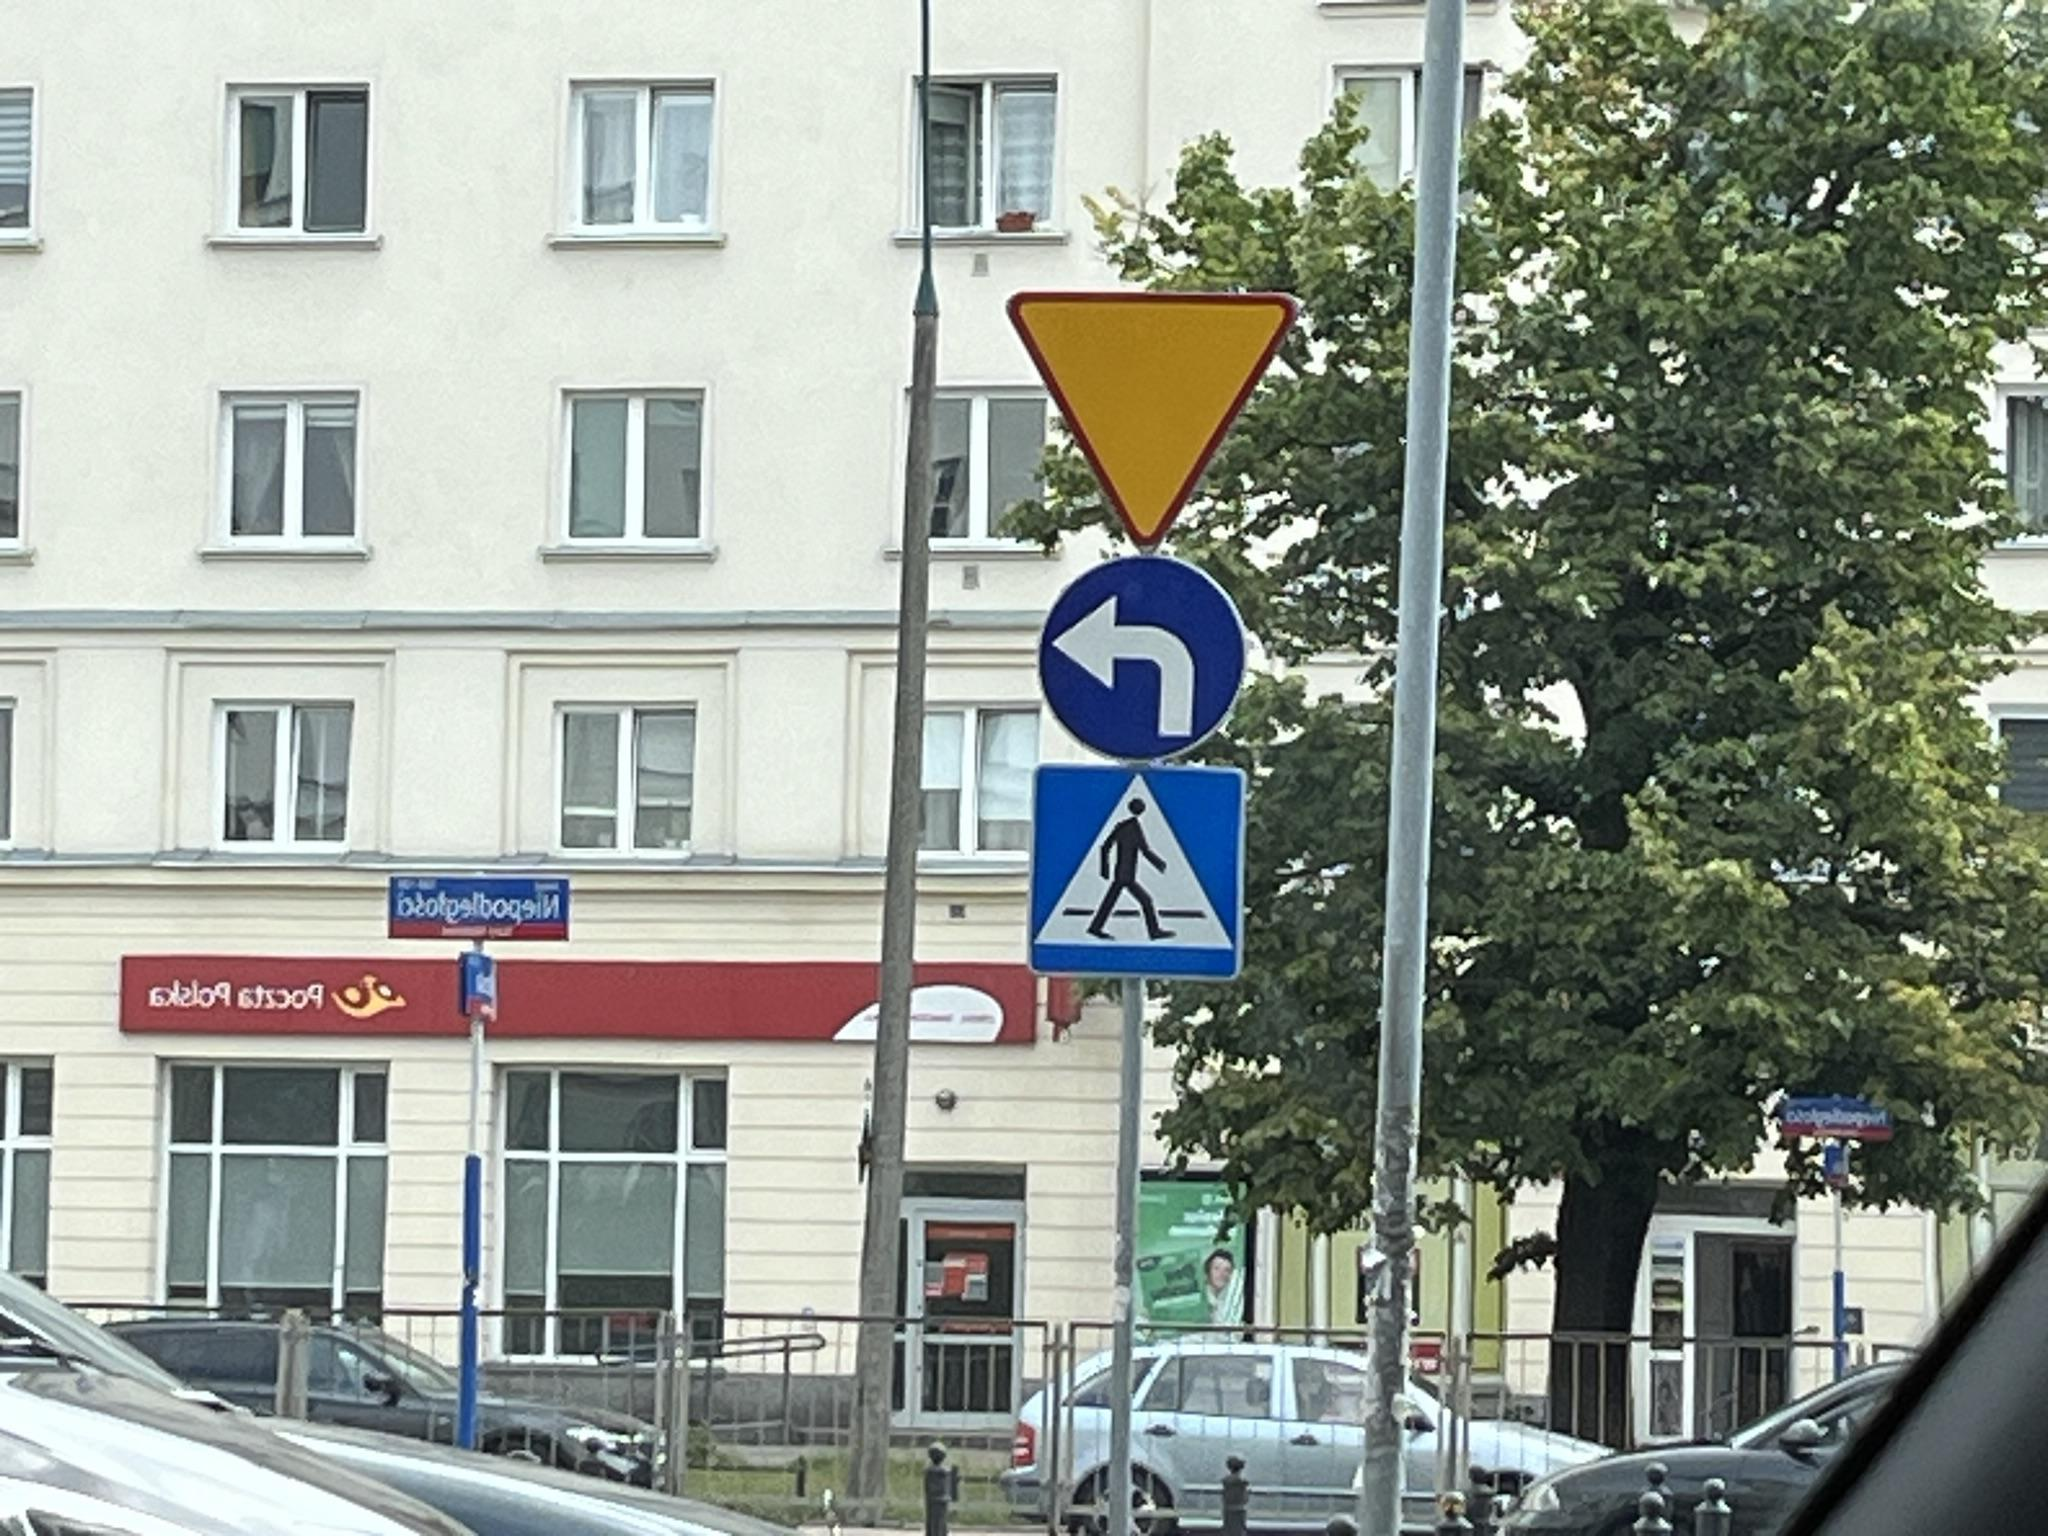information: (1030, 758, 1250, 983)
mandatory: (1034, 550, 1243, 765)
warning: (1006, 286, 1301, 557)
